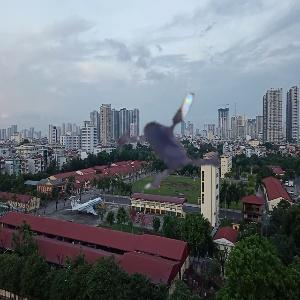drone: (98, 45, 266, 213)
